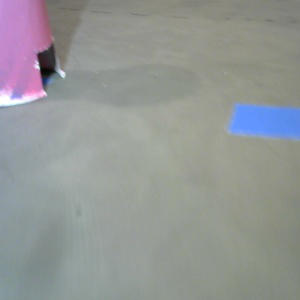middle: (1, 1, 66, 106)
